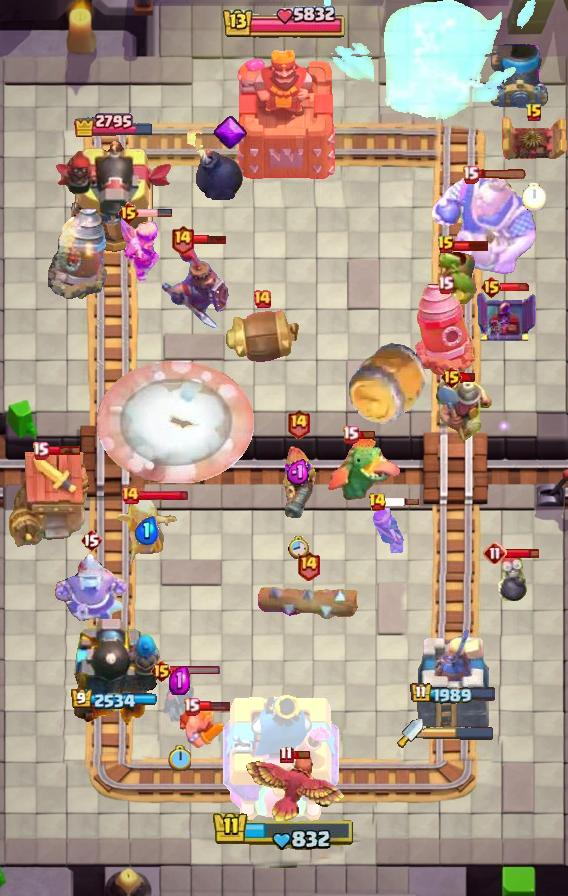archer: (180, 704, 228, 748)
arrows: (122, 216, 162, 281)
baby-dragon: (184, 129, 244, 201)
bandit: (433, 373, 495, 447)
bar: (414, 623, 492, 731)
battle-ram: (161, 672, 197, 726)
bomb-tower: (277, 442, 319, 522)
cannon: (370, 507, 406, 557)
clock: (212, 810, 356, 852), (221, 3, 347, 43)
dirt: (346, 340, 432, 428)
electro-spirit: (133, 516, 158, 545), (286, 459, 311, 486), (169, 666, 190, 695)
electro-wizard: (323, 431, 403, 503)
elixir: (522, 183, 546, 211), (168, 745, 191, 771), (288, 536, 309, 560)
elixir-collector: (53, 554, 129, 630)
elixir-golem-big: (160, 243, 234, 331)
emote: (138, 489, 189, 502), (476, 168, 528, 179), (170, 665, 221, 676), (454, 240, 491, 253), (504, 548, 540, 561), (46, 444, 82, 456), (192, 234, 228, 245), (198, 700, 231, 712), (137, 208, 173, 218), (384, 497, 420, 507), (500, 282, 532, 292), (356, 428, 376, 440), (291, 749, 311, 760), (460, 372, 477, 384)
flying-machine: (436, 248, 480, 304)
giant-skeleton: (433, 172, 540, 274)
goblin-brawler: (498, 114, 568, 164)
golden-knight: (242, 750, 348, 828)
ice-golem: (495, 551, 529, 607)
ice-spirit-evolution-symbol: (474, 290, 538, 344)
king-tower: (223, 689, 345, 826), (229, 43, 339, 181)
king-tower-bar: (423, 726, 495, 740)
magic-archer: (415, 282, 475, 376), (48, 208, 108, 300)
mega-knight: (320, 0, 536, 124)
minion: (256, 582, 359, 620)
musketeer: (490, 44, 550, 108)
poison: (102, 491, 190, 575)
selected: (73, 111, 155, 137), (411, 682, 498, 706), (70, 689, 157, 711)
skeleton-king-skill: (213, 115, 248, 151)
sparky: (9, 451, 95, 549)
text: (170, 224, 195, 255), (286, 408, 311, 439), (295, 550, 320, 581), (483, 541, 507, 565), (116, 201, 139, 225), (480, 275, 503, 299), (441, 365, 464, 389), (150, 659, 173, 683), (80, 528, 102, 552), (252, 289, 272, 309), (120, 485, 140, 505), (368, 492, 388, 512), (525, 103, 543, 123), (437, 235, 455, 255), (183, 696, 201, 715), (341, 425, 359, 443), (462, 164, 479, 183), (437, 274, 454, 293), (32, 441, 49, 459), (279, 745, 293, 763)
the-log: (222, 310, 302, 364)
tower-bar: (53, 138, 175, 256), (67, 611, 161, 731)
wall-breaker: (97, 361, 255, 483)
